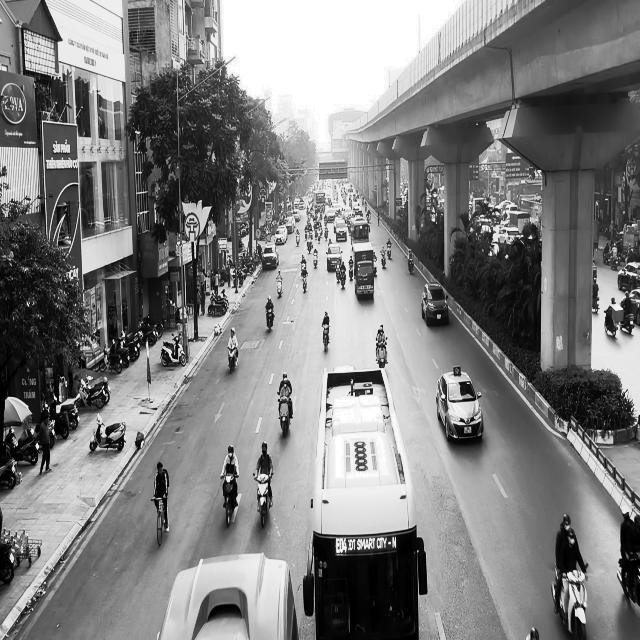bus: (302, 364, 428, 639)
car: (436, 366, 484, 442), (421, 281, 449, 326)
motorbike: (551, 562, 589, 639), (89, 412, 126, 452), (616, 550, 640, 608), (252, 473, 272, 528), (220, 472, 238, 528), (150, 493, 168, 546), (160, 333, 186, 366), (276, 391, 292, 437), (376, 339, 388, 368), (228, 347, 238, 373), (265, 307, 274, 332), (322, 324, 329, 352), (302, 270, 308, 293), (276, 278, 282, 298), (312, 249, 318, 267)
